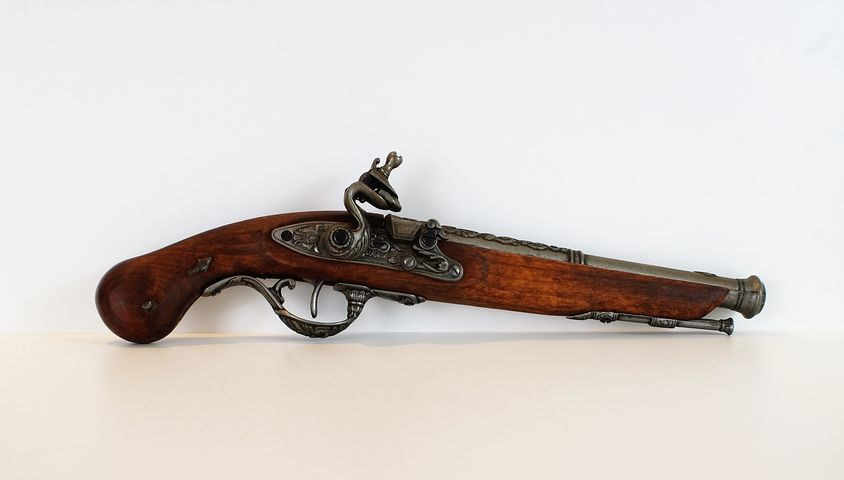gun: (92, 147, 772, 413)
